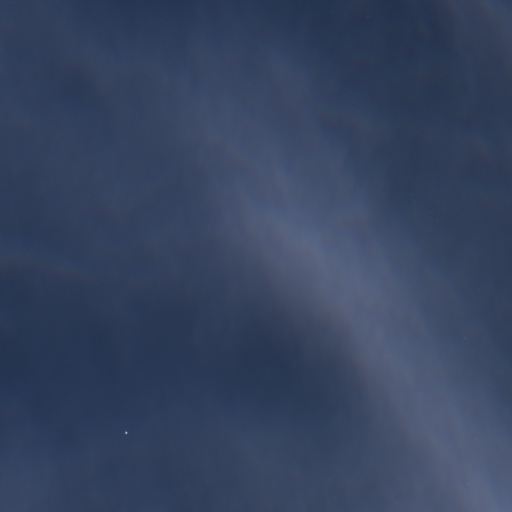Iceberg: (125, 431, 127, 434)
